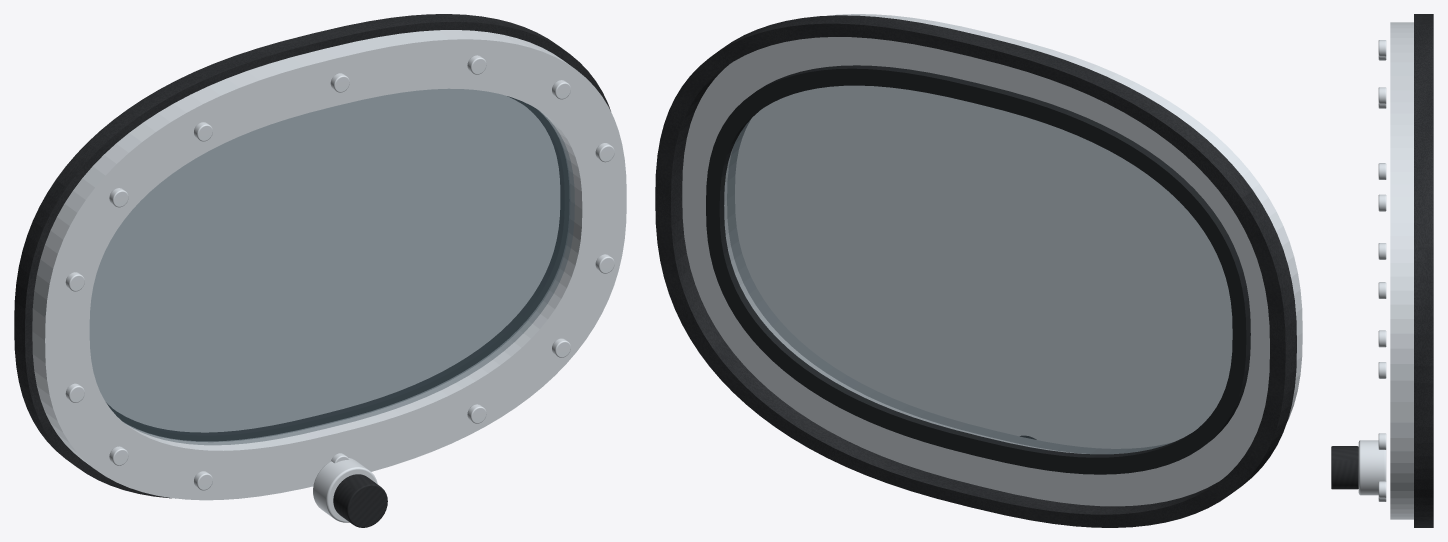
File: SL17B_FacePortAssembly_v1.glb
3 renders of one model, left to right at view 1: azimuth 30°, elevation 25°; view 2: azimuth 150°, elevation 25°; view 3: azimuth 270°, elevation 25°, orthographic. The views are drawn at different scales.
Parts seen in each view (by area): view 1: FacePort_520-004_ESTIMATED, Port_Retainer_560-070_ESTIMATED, UpperVisor_520-054_VISUAL_APPROX, ViewPort_Seal_510-260_ESTIMATED, NoseBlock_Knob_550-062_ESTIMATED, NoseBlock_ExternalBoss_ESTIMATED; view 2: FacePort_520-004_ESTIMATED, Port_Retainer_560-070_ESTIMATED, UpperVisor_520-054_VISUAL_APPROX, ViewPort_Seal_510-260_ESTIMATED; view 3: Port_Retainer_560-070_ESTIMATED, UpperVisor_520-054_VISUAL_APPROX, NoseBlock_ExternalBoss_ESTIMATED, NoseBlock_Knob_550-062_ESTIMATED, Retainer_Fastener_01_ESTIMATED, Retainer_Fastener_08_ESTIMATED, Retainer_Fastener_13_ESTIMATED, Retainer_Fastener_02_ESTIMATED, Retainer_Fastener_03_ESTIMATED, Retainer_Fastener_04_ESTIMATED, Retainer_Fastener_05_ESTIMATED, Retainer_Fastener_09_ESTIMATED (+2 smaller).
Part boxes in pixels (x1=…): FacePort_520-004_ESTIMATED: x1=89, y1=88, x2=574, y2=444; Port_Retainer_560-070_ESTIMATED: x1=32, y1=30, x2=626, y2=500; UpperVisor_520-054_VISUAL_APPROX: x1=14, y1=14, x2=610, y2=498; ViewPort_Seal_510-260_ESTIMATED: x1=107, y1=97, x2=569, y2=440; NoseBlock_Knob_550-062_ESTIMATED: x1=333, y1=474, x2=387, y2=527; NoseBlock_ExternalBoss_ESTIMATED: x1=313, y1=458, x2=377, y2=522; FacePort_520-004_ESTIMATED: x1=724, y1=85, x2=1232, y2=454; Port_Retainer_560-070_ESTIMATED: x1=682, y1=14, x2=1302, y2=506; UpperVisor_520-054_VISUAL_APPROX: x1=655, y1=15, x2=1296, y2=527; ViewPort_Seal_510-260_ESTIMATED: x1=706, y1=65, x2=1250, y2=474; Port_Retainer_560-070_ESTIMATED: x1=1390, y1=22, x2=1413, y2=519; UpperVisor_520-054_VISUAL_APPROX: x1=1414, y1=14, x2=1433, y2=527; NoseBlock_ExternalBoss_ESTIMATED: x1=1358, y1=440, x2=1386, y2=495; NoseBlock_Knob_550-062_ESTIMATED: x1=1331, y1=446, x2=1358, y2=489; Retainer_Fastener_01_ESTIMATED: x1=1378, y1=330, x2=1386, y2=347; Retainer_Fastener_08_ESTIMATED: x1=1378, y1=194, x2=1386, y2=211; Retainer_Fastener_13_ESTIMATED: x1=1378, y1=481, x2=1386, y2=498; Retainer_Fastener_02_ESTIMATED: x1=1378, y1=243, x2=1386, y2=259; Retainer_Fastener_03_ESTIMATED: x1=1378, y1=163, x2=1386, y2=179; Retainer_Fastener_04_ESTIMATED: x1=1378, y1=87, x2=1386, y2=103; Retainer_Fastener_05_ESTIMATED: x1=1378, y1=40, x2=1386, y2=56; Retainer_Fastener_09_ESTIMATED: x1=1378, y1=282, x2=1386, y2=298.
Bounding box in the file's own units: 0.322 × 0.237 × 0.052.
Materials: 4 (1 with a texture image).
